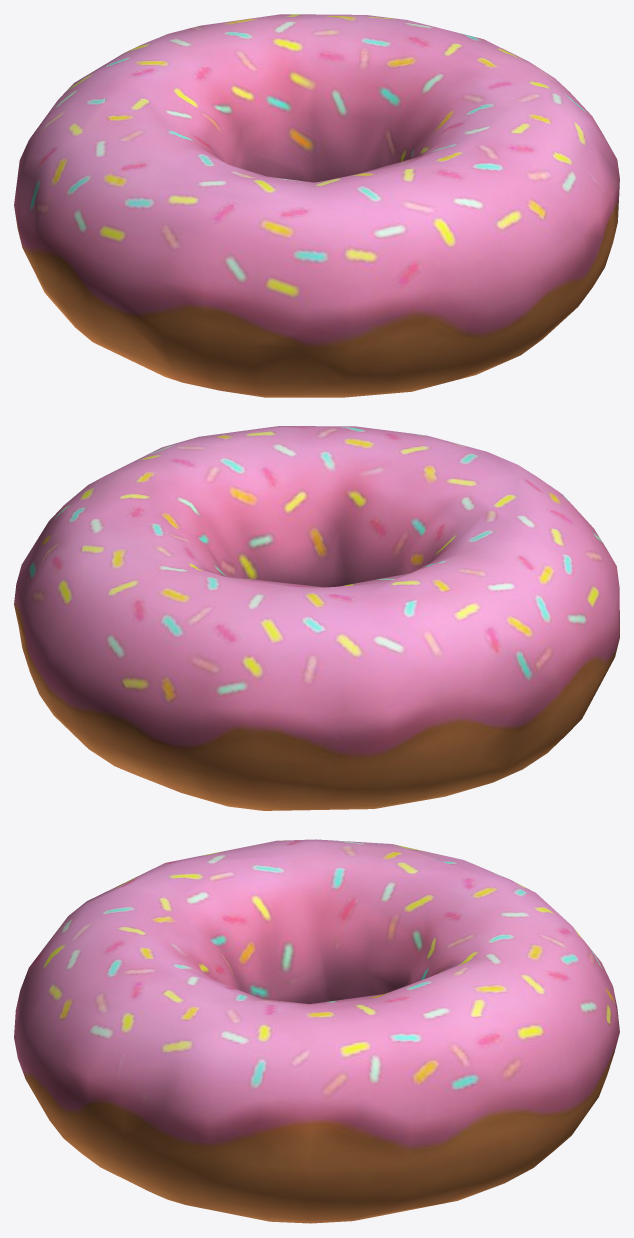
The model's file is OBS0110269.fbx.
3 views of the same model, one above another, from view 1: azimuth 30°, elevation 25°; view 2: azimuth 150°, elevation 25°; view 3: azimuth 270°, elevation 25° (orthographic).
Visible parts, largest first — view 1: smOBS0110269; view 2: smOBS0110269; view 3: smOBS0110269.
Boxes of the visible parts, x1=… form: smOBS0110269: x1=14, y1=14, x2=619, y2=397; smOBS0110269: x1=14, y1=426, x2=619, y2=810; smOBS0110269: x1=14, y1=839, x2=619, y2=1223.
Bounding box in the file's own units: 50.65 × 19.18 × 51.42.
Materials: 1 (1 with a texture image).
